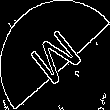M_SE: (23, 21, 87, 89)
